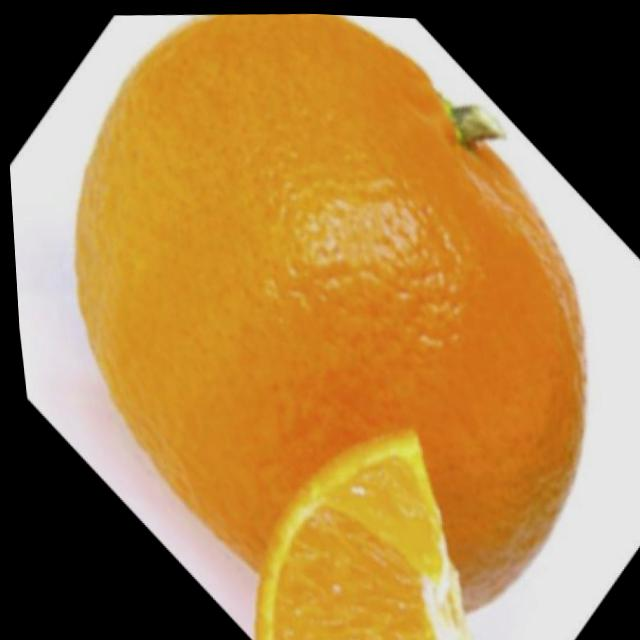Orange: (44, 2, 611, 634), (226, 416, 470, 640)
